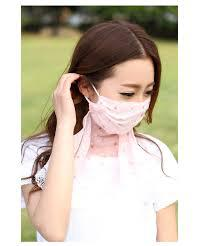OK: (95, 76, 156, 136)
